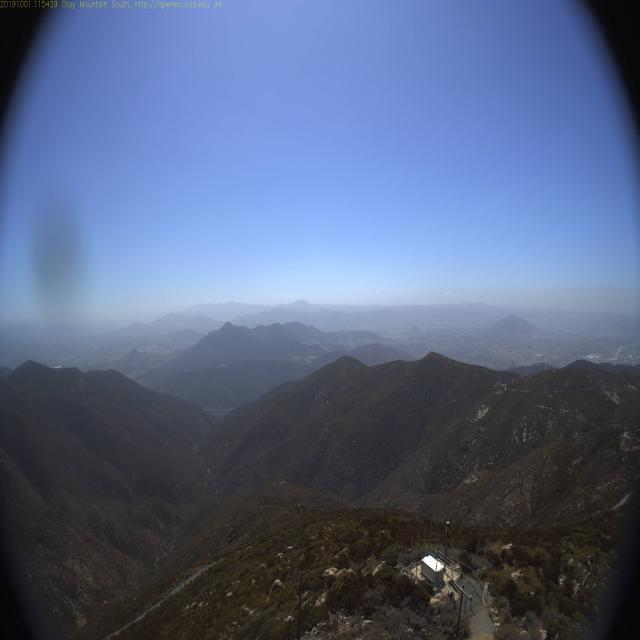smoke: (340, 327, 361, 354)
